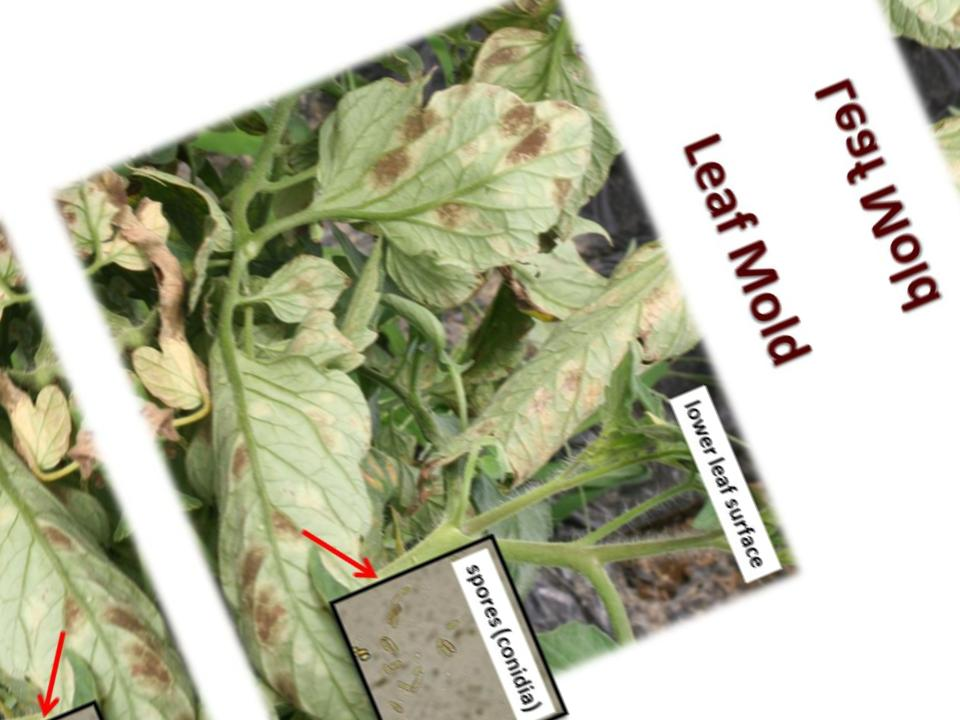Tomato mold leaf: (140, 292, 501, 720), (271, 4, 638, 332), (387, 221, 725, 507), (242, 229, 364, 340)
